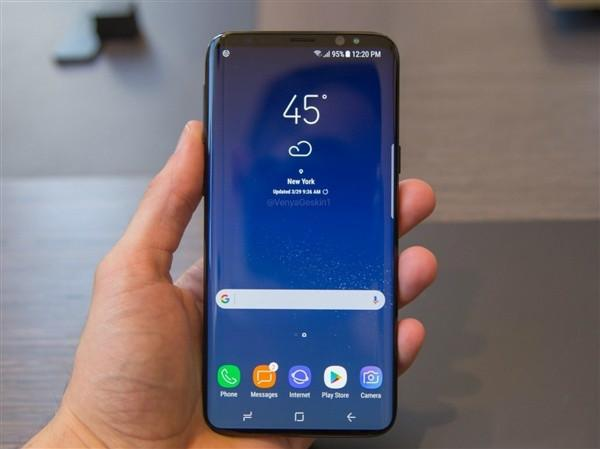phone: (202, 27, 404, 435)
